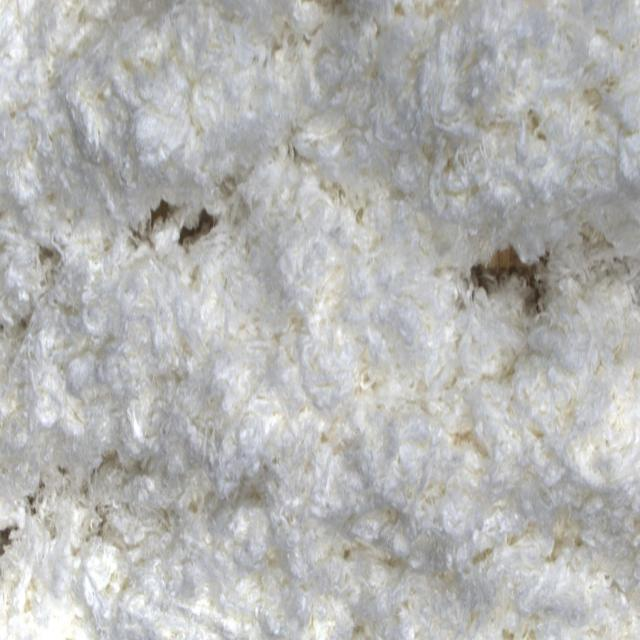dust: (455, 230, 577, 327), (137, 202, 232, 245)
